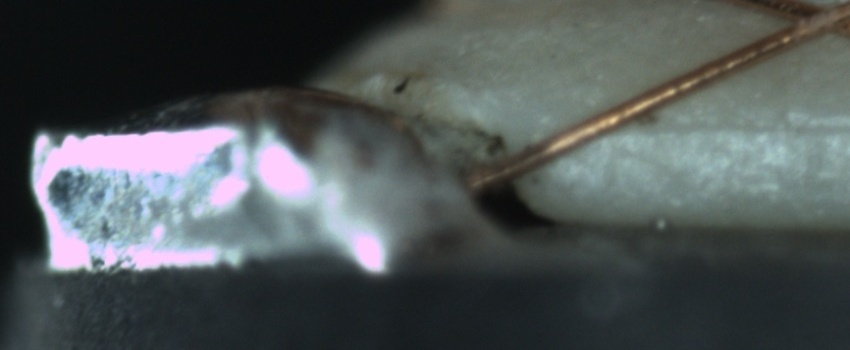CL: (767, 0, 848, 46)
DL: (611, 93, 848, 160)
